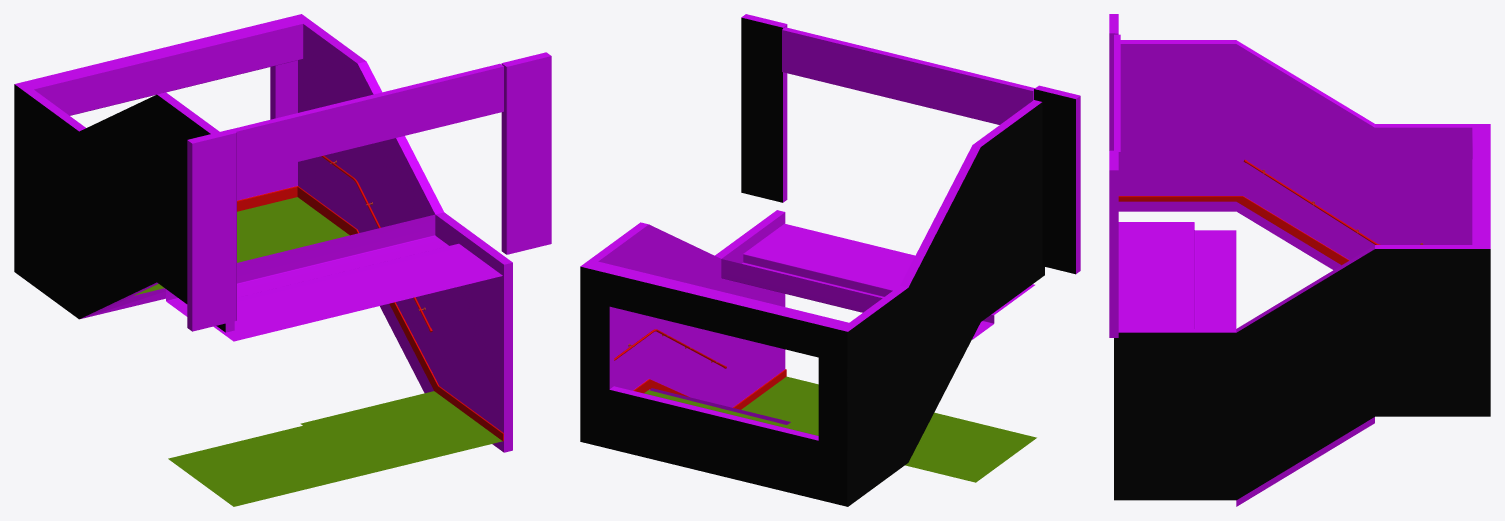
File: Floor_stairs_middle_Snaps014.fbx
The picture shows the model from 3 angles, left to right: view 1: azimuth 30°, elevation 25°; view 2: azimuth 150°, elevation 25°; view 3: azimuth 270°, elevation 25°; orthographic projection. The views are drawn at different scales.
Visible parts, largest first — view 1: Floor_stairs_middle_LOD00; view 2: Floor_stairs_middle_LOD00; view 3: Floor_stairs_middle_LOD00, Stair_handrail_04_LOD00.
Part boxes in pixels (<box>): Floor_stairs_middle_LOD00: <box>14,14,551,506</box>; Floor_stairs_middle_LOD00: <box>580,14,1080,506</box>; Floor_stairs_middle_LOD00: <box>1109,14,1490,506</box>; Stair_handrail_04_LOD00: <box>1243,159,1423,244</box>.
Size of what is drawn, in the model's own units: 800 by 850 by 825.
